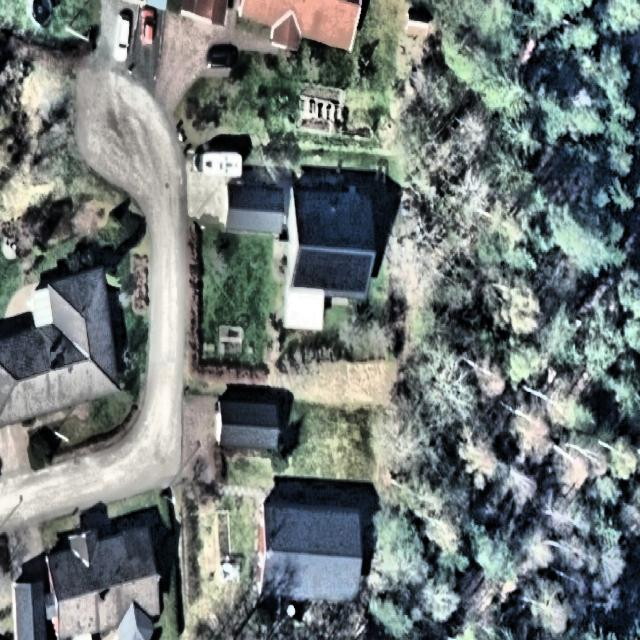roof_pv: (289, 249, 376, 300)
